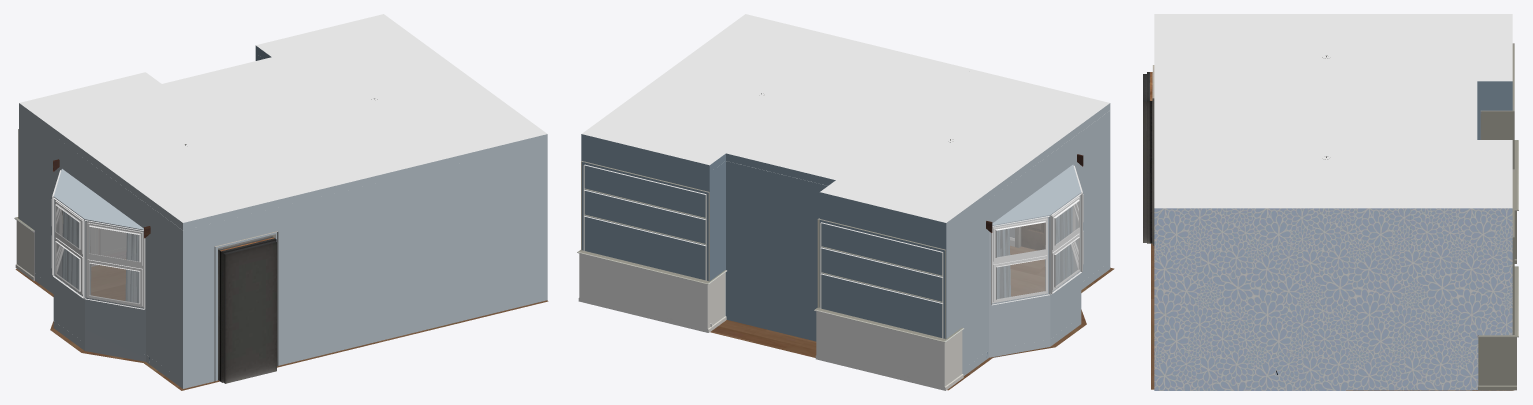
File: ENV1_Family.gltf
3 views of the same model, side by side, from view 1: azimuth 30°, elevation 25°; view 2: azimuth 150°, elevation 25°; view 3: azimuth 270°, elevation 25° (orthographic). The views are drawn at different scales.
Visible parts, largest first — view 1: ENV_Walls, Ceiling, Door, Windows, Floor, Sideboard, Curtains; view 2: ENV_Walls, Ceiling, Sideboard, Surfaces, Windows, Floor, Curtains, Shelves001, Shelves, Door; view 3: Ceiling, ENV_Walls, Surfaces, Door, Shelves001, Floor, Sideboard, Shelves.
Part boxes in pixels (<box>): ENV_Walls: <box>19,45,547,388</box>; Ceiling: <box>19,14,546,222</box>; Door: <box>214,231,278,383</box>; Windows: <box>55,205,139,303</box>; Floor: <box>15,265,548,390</box>; Sideboard: <box>14,215,126,280</box>; Curtains: <box>53,159,150,362</box>; ENV_Walls: <box>581,103,1110,375</box>; Ceiling: <box>582,14,1109,222</box>; Sideboard: <box>814,307,964,390</box>; Surfaces: <box>577,250,727,332</box>; Windows: <box>996,201,1079,299</box>; Floor: <box>710,246,1114,390</box>; Curtains: <box>986,154,1083,357</box>; Shelves001: <box>817,218,945,339</box>; Shelves: <box>581,161,709,281</box>; Door: <box>1015,223,1045,250</box>; Ceiling: <box>1154,14,1512,208</box>; ENV_Walls: <box>1154,81,1512,390</box>; Surfaces: <box>1477,266,1518,390</box>; Door: <box>1143,65,1154,245</box>; Shelves001: <box>1480,43,1514,169</box>; Floor: <box>1151,243,1513,390</box>; Sideboard: <box>1514,140,1518,263</box>; Shelves: <box>1512,169,1514,334</box>.
Size of the model in its own units: 6.62 by 2.62 by 4.85.
Materials: 48 (47 with a texture image).
